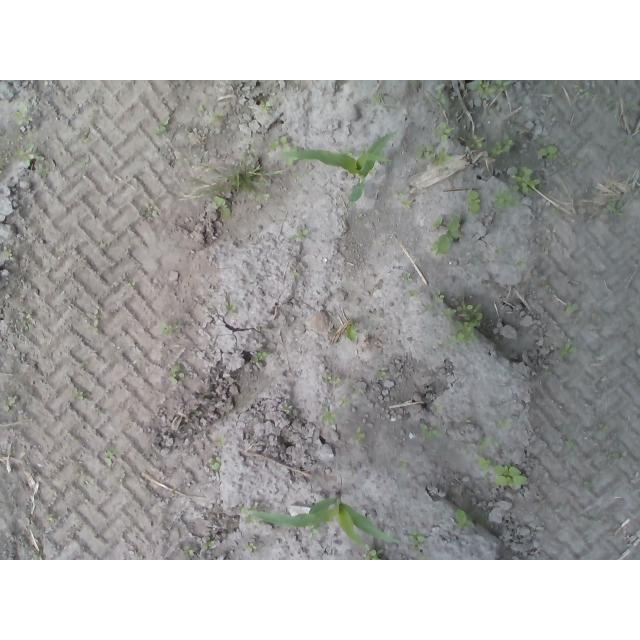Maize: (244, 490, 404, 548), (280, 134, 399, 211)
Weeds: (440, 303, 487, 346), (477, 455, 532, 489), (433, 212, 465, 256), (513, 165, 543, 194), (417, 144, 450, 168), (477, 82, 516, 99), (491, 187, 517, 209), (15, 143, 45, 162), (491, 137, 516, 157), (418, 421, 440, 442), (537, 143, 559, 162), (454, 507, 472, 530), (215, 195, 233, 217), (239, 503, 259, 522), (437, 121, 455, 142), (467, 190, 482, 214), (410, 532, 430, 549), (13, 110, 34, 126), (167, 366, 185, 384), (478, 437, 504, 449), (398, 191, 416, 208), (181, 544, 199, 561), (270, 135, 290, 150), (290, 229, 311, 242), (564, 302, 581, 318), (512, 256, 529, 272), (103, 447, 118, 465), (17, 317, 36, 331), (4, 396, 17, 416), (321, 408, 337, 424), (322, 374, 343, 386), (151, 123, 170, 136), (347, 325, 362, 341), (562, 344, 578, 359), (353, 428, 368, 444), (207, 457, 222, 472), (1, 248, 15, 263), (254, 350, 270, 363), (202, 538, 218, 550), (366, 549, 383, 560), (497, 416, 512, 428), (434, 290, 447, 303), (159, 324, 173, 336), (375, 367, 389, 379), (214, 434, 226, 447), (373, 92, 386, 104), (245, 542, 257, 554), (494, 246, 506, 258), (260, 101, 273, 112), (401, 273, 414, 283), (224, 303, 236, 313)
